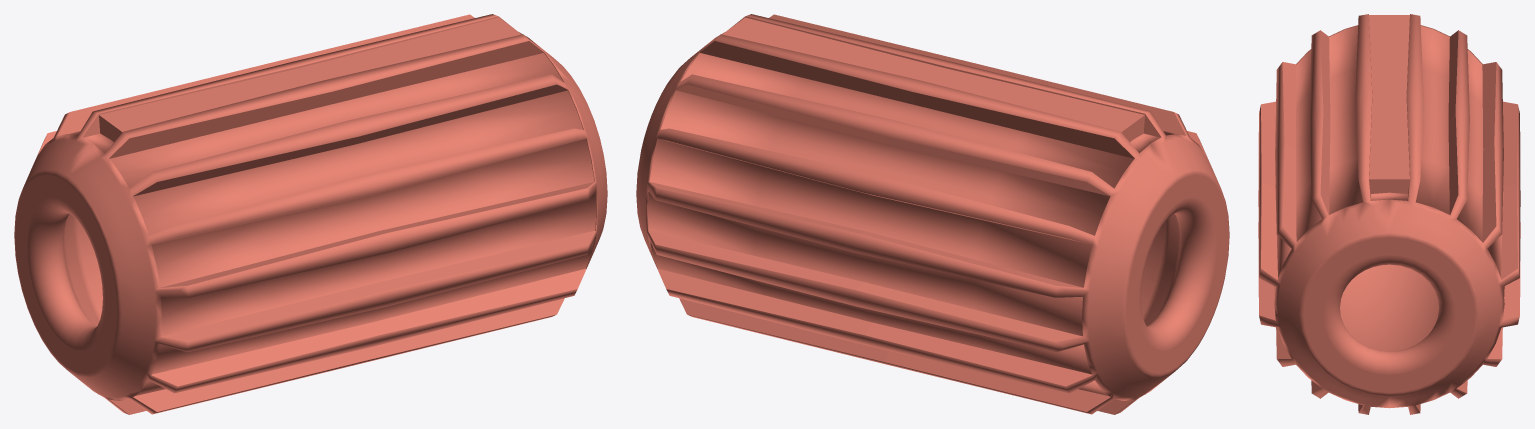
The model's file is MezzanineTankSet_stainlessSteel.dae.
3 renders of one model, left to right at view 1: azimuth 30°, elevation 25°; view 2: azimuth 150°, elevation 25°; view 3: azimuth 270°, elevation 25°, orthographic. The views are drawn at different scales.
Visible parts, largest first — view 1: MezzanineTankSet_stainlessSteel; view 2: MezzanineTankSet_stainlessSteel; view 3: MezzanineTankSet_stainlessSteel.
Boxes of the visible parts, bbox=[...] form: MezzanineTankSet_stainlessSteel: bbox=[14, 14, 607, 414]; MezzanineTankSet_stainlessSteel: bbox=[636, 14, 1229, 414]; MezzanineTankSet_stainlessSteel: bbox=[1258, 14, 1520, 414].
Size of the model in its own units: 1.8 by 0.9914 by 0.9914.
